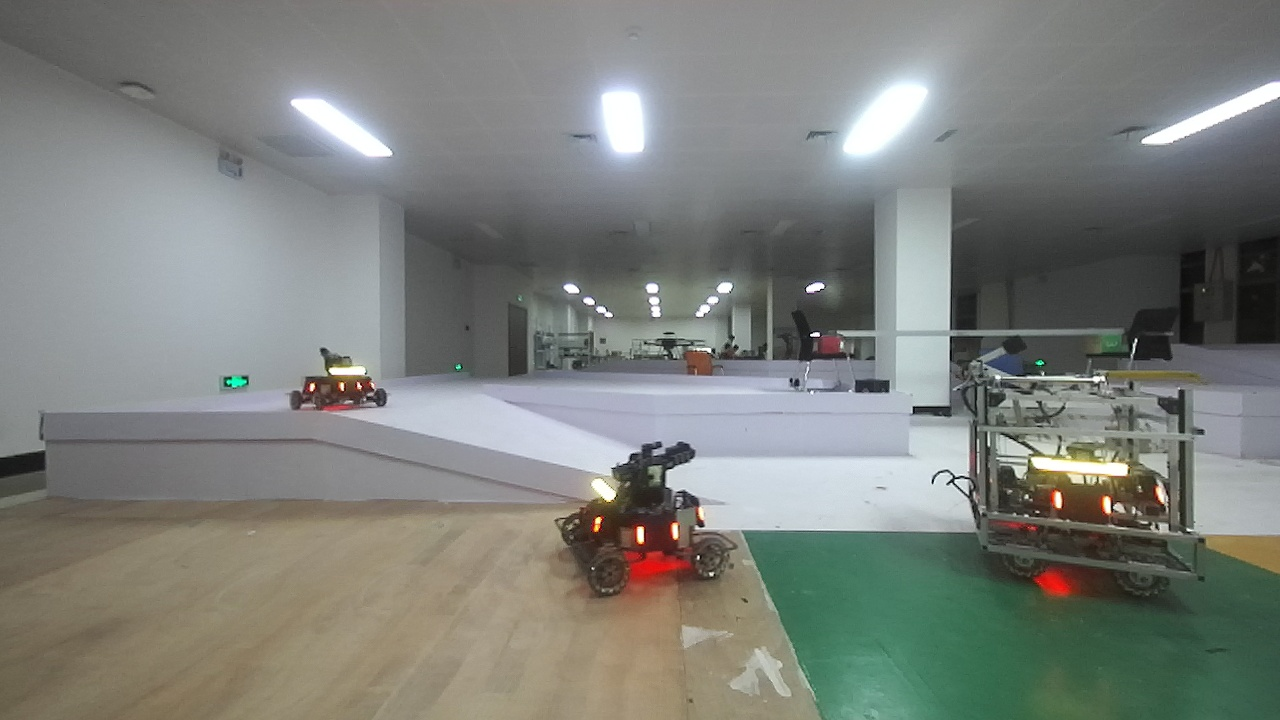car: (953, 347, 1226, 601), (548, 431, 744, 601), (283, 340, 403, 431)
